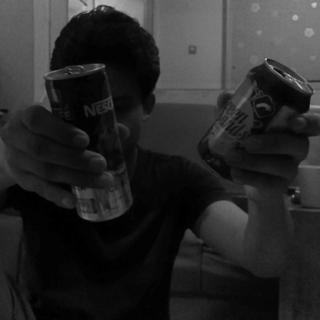alumunium_can: (195, 56, 314, 187), (43, 64, 137, 222)
